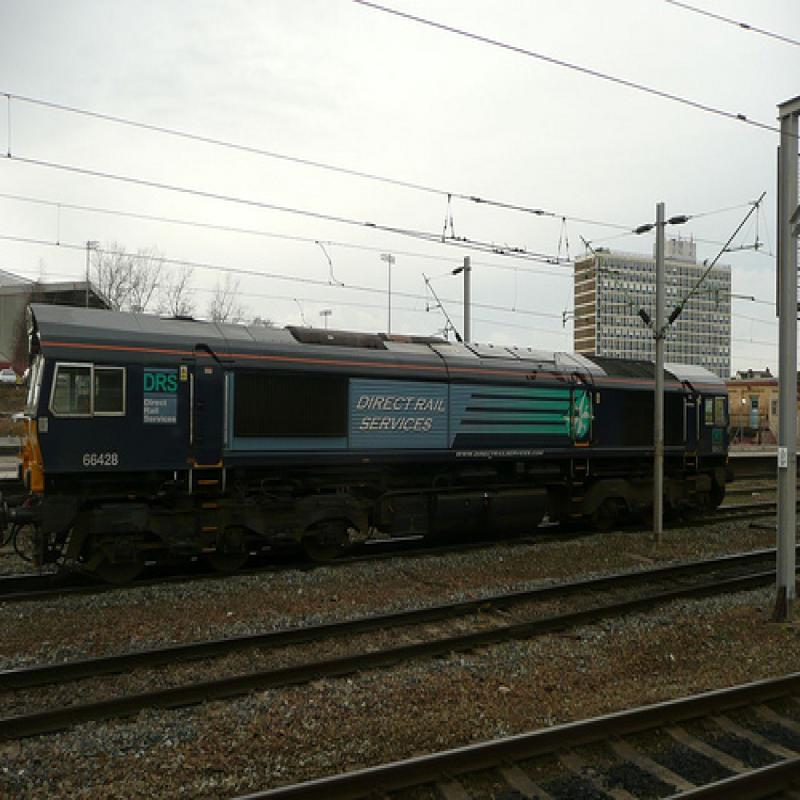train: (20, 298, 729, 586)
